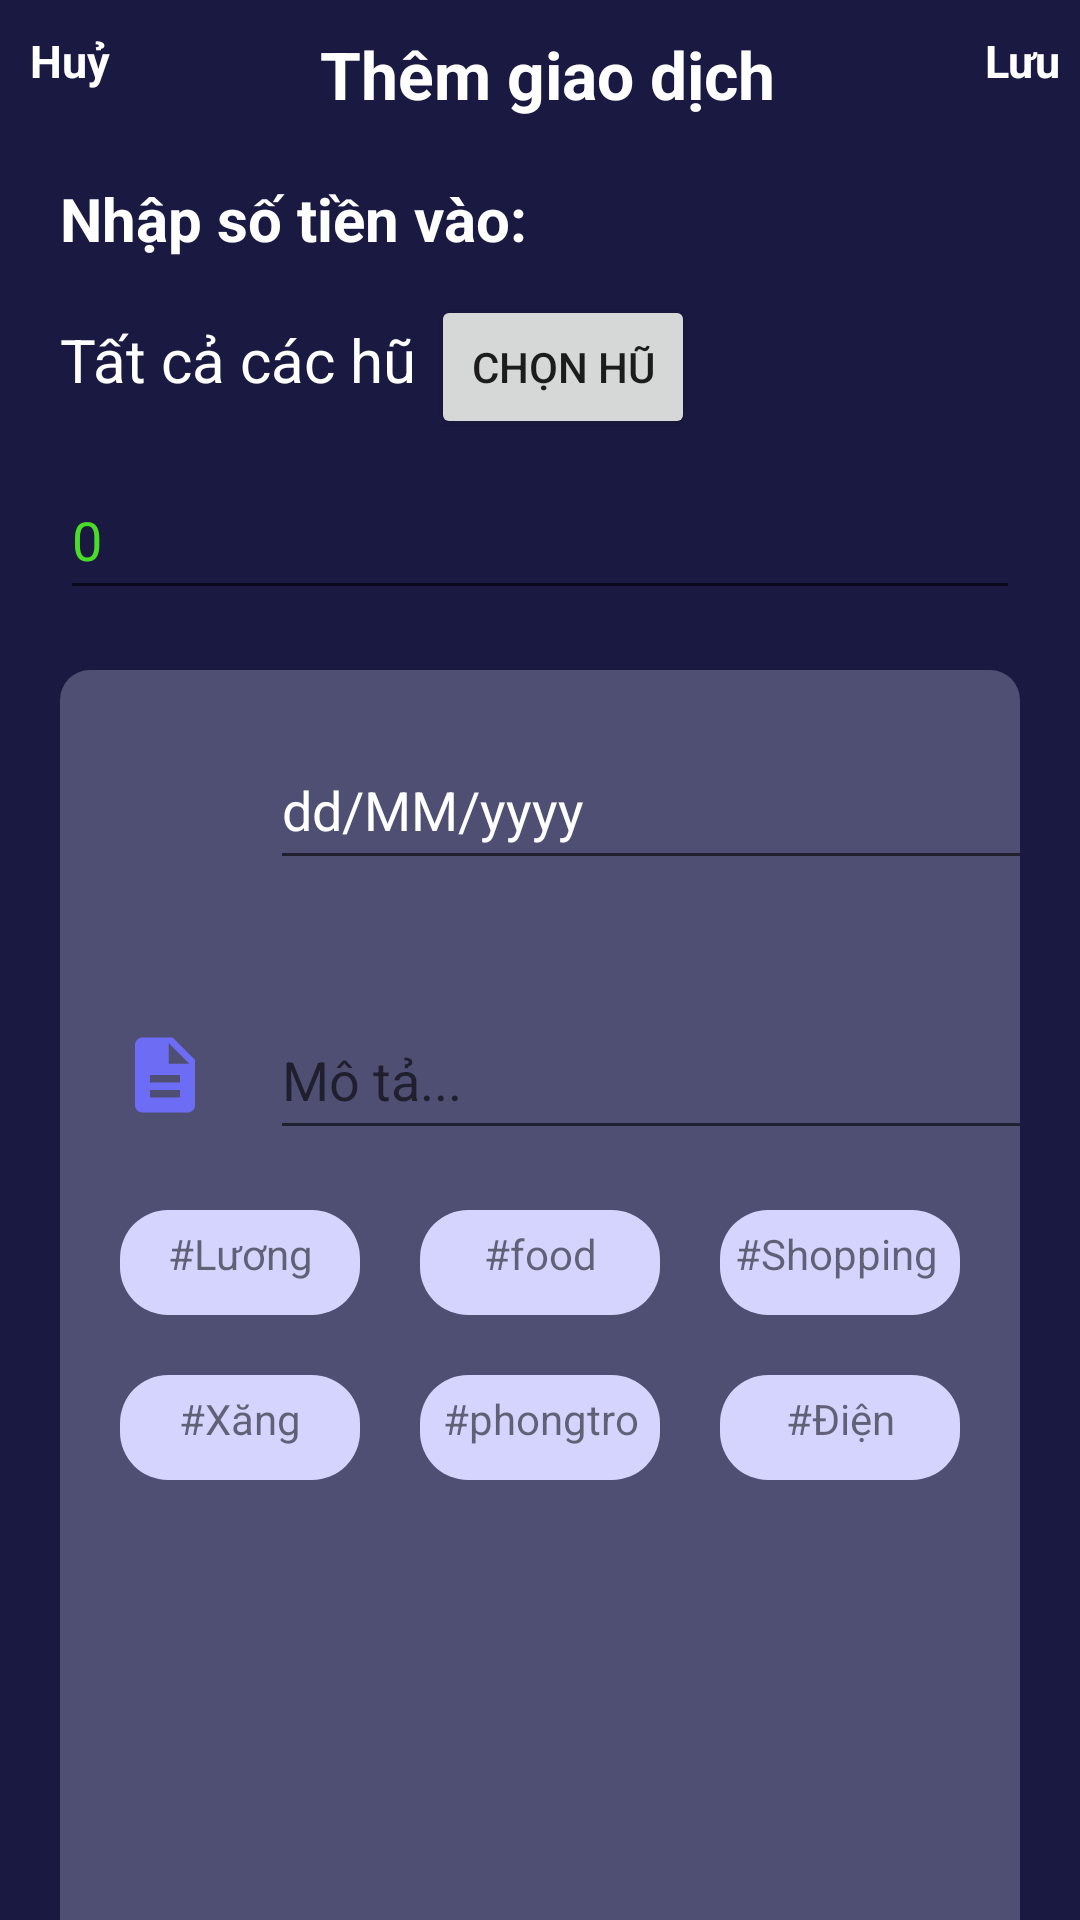

Icons on this 1080 x 1920 Android screen, each with the point to tap as point (x, y):
description: point (165, 1075)
